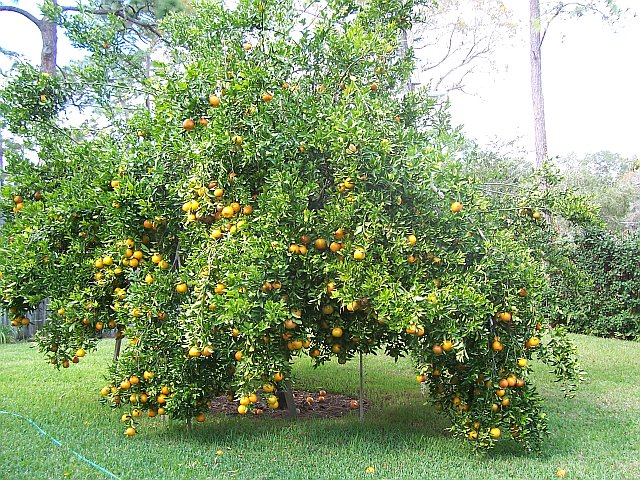orange: (207, 92, 222, 106), (323, 279, 337, 293), (270, 278, 284, 292), (291, 304, 304, 318), (284, 317, 297, 331), (272, 369, 285, 383), (188, 345, 201, 359), (201, 343, 215, 356), (194, 412, 208, 425), (450, 200, 464, 213), (175, 281, 188, 294), (214, 282, 227, 295), (222, 206, 235, 219), (499, 310, 512, 323), (182, 118, 194, 131), (198, 116, 211, 128), (231, 134, 244, 146), (109, 175, 121, 188), (32, 190, 45, 202), (314, 237, 327, 249), (267, 399, 280, 411), (528, 336, 541, 348), (443, 340, 455, 353), (415, 323, 426, 337), (37, 94, 51, 105), (247, 104, 259, 116), (354, 248, 366, 260), (406, 233, 418, 245), (321, 303, 333, 315), (261, 380, 273, 392), (179, 200, 191, 212), (452, 394, 464, 406), (99, 38, 111, 50), (332, 325, 343, 338), (231, 326, 242, 339), (264, 394, 277, 405), (242, 204, 253, 217), (432, 343, 443, 356), (345, 143, 356, 155), (309, 347, 321, 358), (234, 350, 245, 362), (248, 392, 259, 404), (157, 393, 169, 404), (492, 340, 503, 352), (489, 425, 500, 437), (228, 172, 239, 184), (333, 228, 346, 238), (292, 336, 302, 349), (261, 280, 271, 293), (518, 285, 528, 298), (508, 375, 518, 388), (483, 376, 493, 389), (110, 199, 121, 210), (289, 243, 300, 254), (344, 176, 355, 187), (347, 299, 358, 310), (406, 323, 417, 334), (302, 336, 313, 347), (240, 395, 251, 406), (237, 404, 248, 415), (137, 392, 148, 403), (132, 249, 143, 260), (54, 212, 65, 223), (516, 376, 527, 387), (432, 277, 443, 288), (145, 272, 155, 284), (299, 233, 311, 243), (336, 180, 346, 192), (298, 142, 308, 154), (331, 342, 341, 354), (157, 405, 167, 417), (132, 407, 142, 419), (49, 342, 59, 354), (141, 234, 153, 244), (532, 209, 542, 221), (243, 42, 254, 52), (143, 218, 153, 229), (159, 258, 169, 269), (329, 241, 340, 251), (9, 319, 20, 329), (8, 304, 18, 315), (212, 228, 223, 238), (189, 200, 199, 211), (499, 377, 509, 388), (461, 401, 471, 412), (42, 254, 53, 264), (298, 244, 307, 256), (100, 386, 109, 398), (128, 391, 137, 403), (95, 320, 104, 332), (186, 211, 195, 223), (432, 366, 441, 378), (470, 428, 479, 440), (136, 128, 146, 138), (151, 253, 161, 263), (337, 248, 347, 258), (407, 253, 417, 263), (320, 319, 330, 329), (157, 310, 167, 320), (160, 384, 170, 394), (111, 385, 121, 395), (113, 395, 123, 405), (93, 258, 103, 268), (124, 239, 134, 249), (123, 248, 133, 258), (115, 288, 125, 298), (417, 373, 427, 383), (282, 330, 291, 341), (144, 369, 153, 380), (121, 379, 130, 390), (130, 373, 139, 384), (103, 255, 112, 266), (114, 329, 123, 340), (231, 201, 240, 212), (221, 220, 230, 231), (228, 222, 237, 233), (196, 187, 207, 196), (492, 333, 503, 342), (502, 395, 511, 406), (113, 264, 121, 276), (13, 194, 23, 203), (377, 313, 386, 323), (209, 301, 218, 311), (129, 258, 138, 268), (121, 257, 130, 267), (107, 319, 116, 329), (13, 312, 22, 322), (214, 188, 224, 197), (523, 340, 532, 350), (472, 418, 481, 428), (369, 82, 378, 92), (384, 43, 393, 53), (317, 84, 327, 93), (262, 92, 271, 102), (288, 340, 296, 351), (476, 373, 484, 384), (339, 240, 348, 249), (95, 272, 104, 281), (81, 316, 90, 325), (77, 348, 86, 357), (21, 317, 30, 326), (208, 179, 217, 188), (123, 413, 131, 423), (237, 219, 245, 229), (497, 387, 505, 397), (16, 203, 24, 212), (127, 428, 135, 437), (148, 408, 156, 417), (132, 308, 140, 317), (62, 360, 70, 369), (251, 193, 259, 202), (535, 320, 543, 329), (465, 229, 474, 237), (123, 302, 131, 310), (490, 403, 498, 411), (56, 308, 65, 315), (12, 206, 20, 213), (393, 116, 400, 124), (338, 82, 345, 89), (79, 230, 86, 237), (501, 212, 507, 220), (73, 357, 79, 364)
